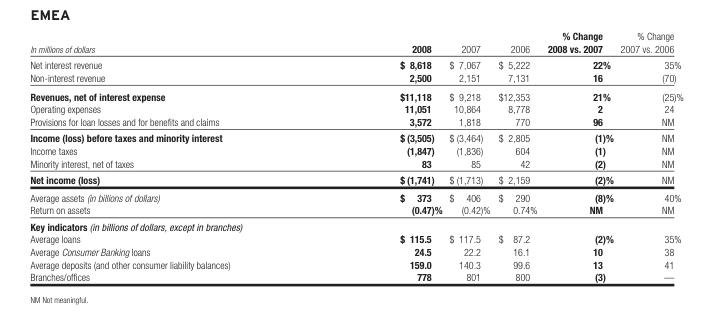table: (29, 29, 682, 282)
table column: (29, 29, 314, 282), (314, 29, 444, 282), (541, 29, 616, 282), (616, 29, 682, 282), (444, 29, 493, 282), (493, 29, 541, 282)
table column header: (29, 29, 682, 56)
table projected row header: (29, 217, 682, 232)
table row: (29, 29, 682, 56), (29, 171, 682, 188), (29, 70, 682, 86), (29, 86, 682, 102), (29, 114, 682, 129), (29, 156, 682, 171), (29, 188, 682, 203), (29, 217, 682, 232), (29, 56, 682, 70), (29, 129, 682, 143), (29, 203, 682, 217), (29, 143, 682, 156), (29, 232, 682, 245), (29, 257, 682, 270), (29, 102, 682, 114), (29, 245, 682, 257), (29, 270, 682, 282)
